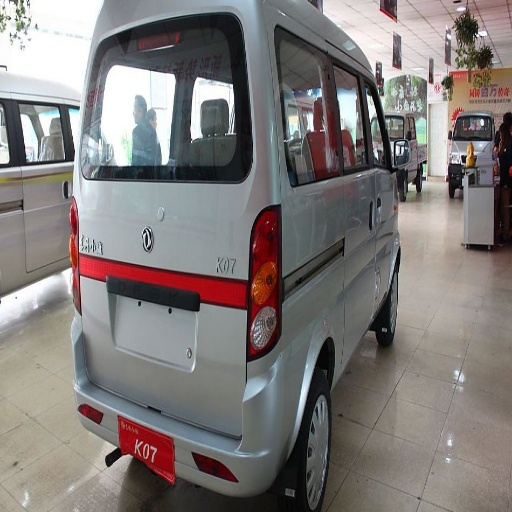back_bumper: (76, 348, 311, 498)
back_glass: (84, 30, 247, 180)
trunk: (81, 178, 246, 428)
